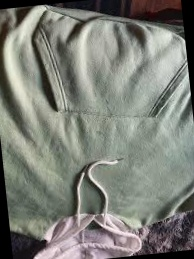oil: (93, 91, 122, 127), (92, 129, 106, 143)
